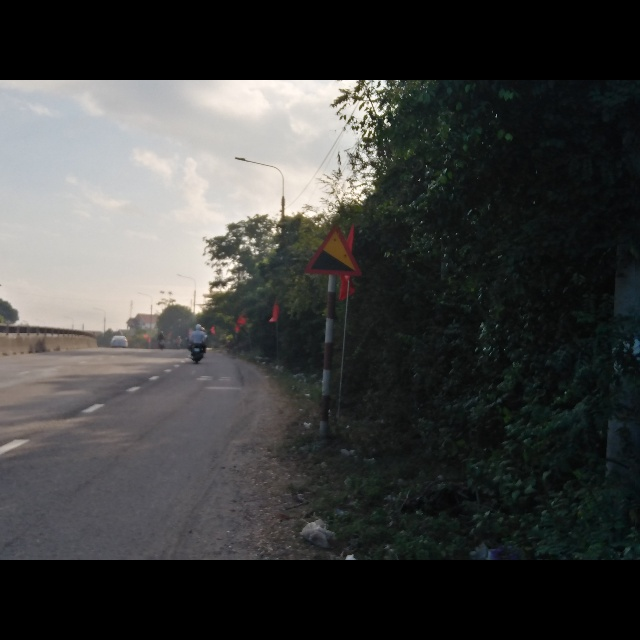Dốc lên nguy hiểm: (305, 222, 362, 275)
